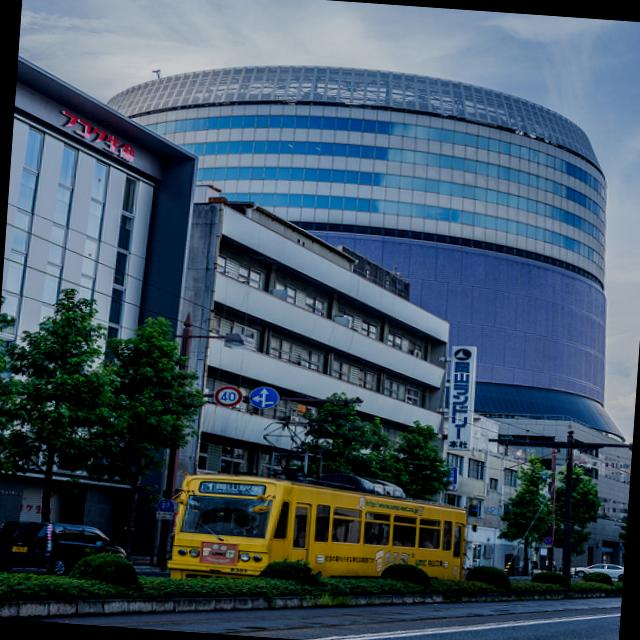Vehicle: (170, 469, 476, 598), (0, 518, 131, 581), (568, 560, 624, 580)
